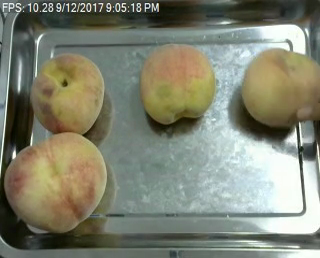Peach: (3, 132, 107, 234), (242, 47, 320, 128), (139, 42, 216, 124), (30, 52, 106, 135)
